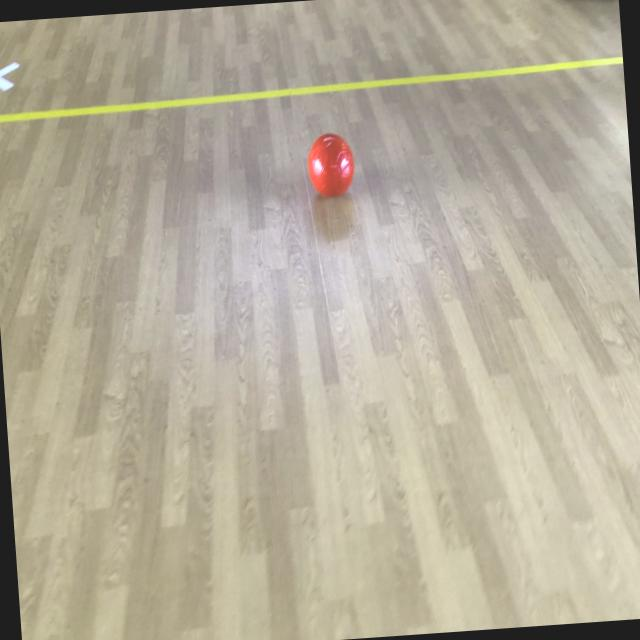red_ball: (304, 131, 356, 201)
